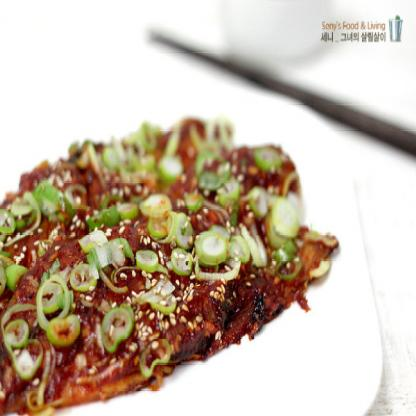Peixe: (0, 108, 334, 415)
